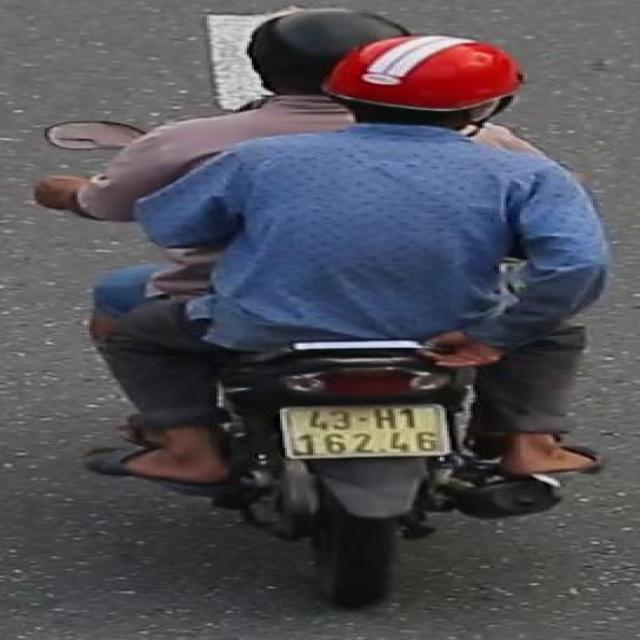LP: (274, 398, 455, 462)
helmet: (316, 32, 536, 144), (245, 6, 419, 96)
